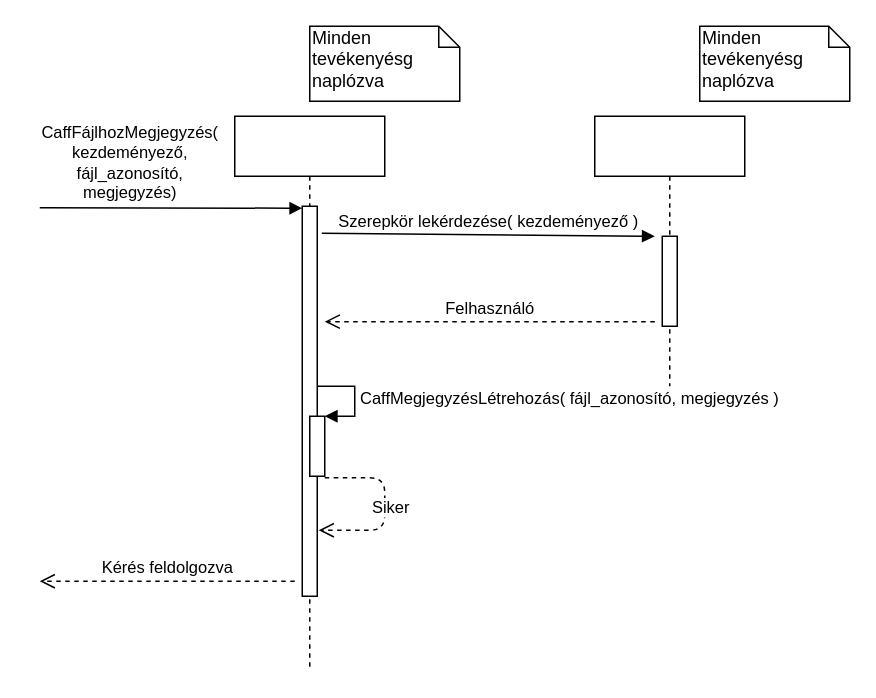
Image size: 876x698. Some labels were removed from this diagram. Each missing label, with the centre of its shape:
"c: CAFF Fájl Kezelő" goes at point 309,393.
"f: Felhasználói Adatkezelő" goes at point 669,250.
